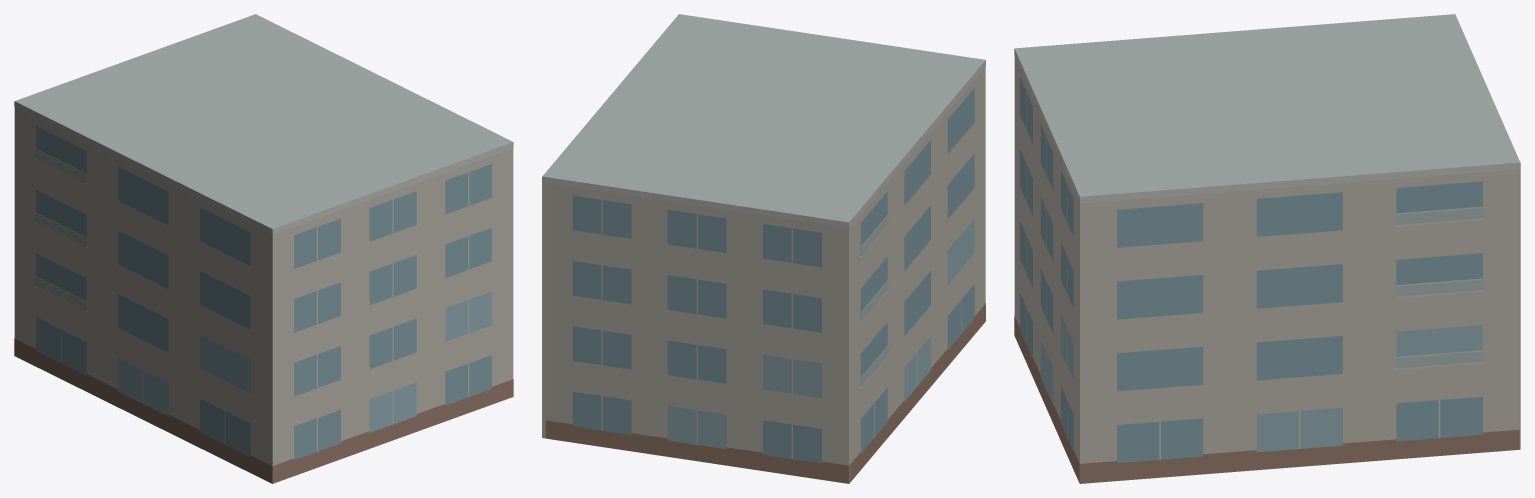
File: survey-upis-32732705.glb
3 views of the same model, side by side, from view 1: azimuth 30°, elevation 25°; view 2: azimuth 150°, elevation 25°; view 3: azimuth 270°, elevation 25° (orthographic). The views are drawn at different scales.
Visible parts, largest first — view 1: survey-upis-32732705.tmp; view 2: survey-upis-32732705.tmp; view 3: survey-upis-32732705.tmp.
Boxes of the visible parts, x1=… form: survey-upis-32732705.tmp: x1=14, y1=14, x2=513, y2=483; survey-upis-32732705.tmp: x1=542, y1=14, x2=985, y2=483; survey-upis-32732705.tmp: x1=1014, y1=14, x2=1520, y2=483.
Size of the model in its own units: 14.34 by 10.5 by 16.78.
